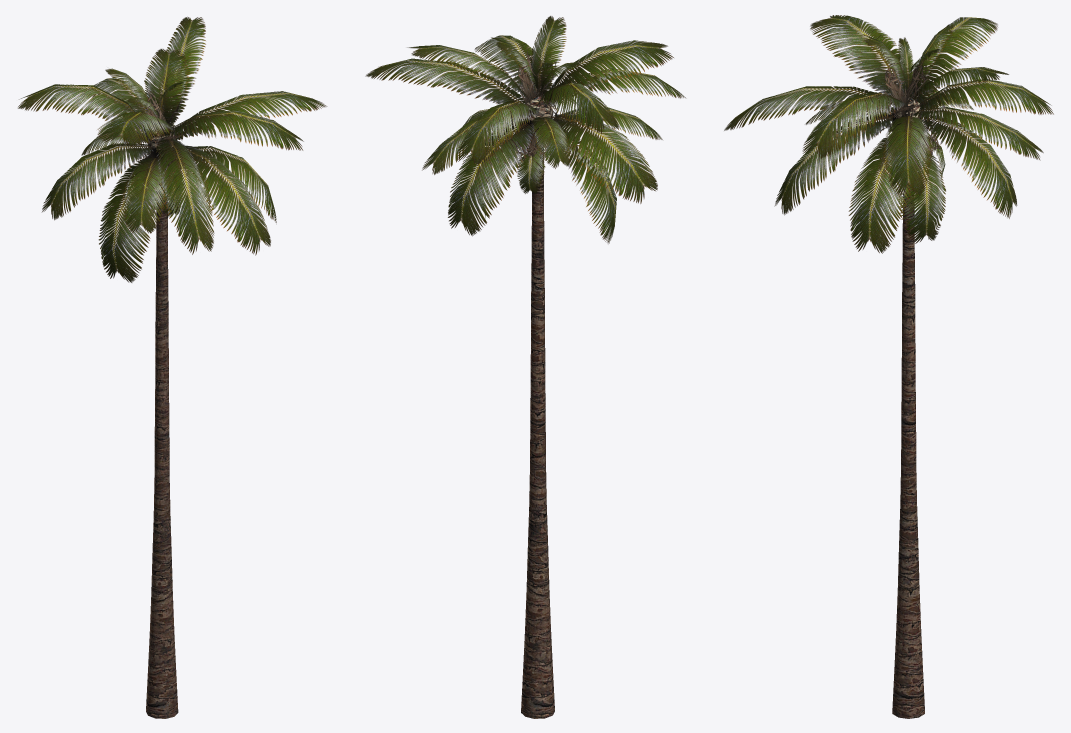
The model's file is palm_tree.gltf.
3 views of the same model, side by side, from view 1: azimuth 30°, elevation 25°; view 2: azimuth 150°, elevation 25°; view 3: azimuth 270°, elevation 25° (orthographic). The views are drawn at different scales.
Parts seen in each view (by area): view 1: palm_tree; view 2: palm_tree; view 3: palm_tree.
Part boxes in pixels (left/top/right/bottom): palm_tree: left=18, top=17, right=327, bottom=718; palm_tree: left=365, top=16, right=685, bottom=718; palm_tree: left=724, top=15, right=1053, bottom=718.
Size of the model in its own units: 1.98 by 4.4 by 1.98.
